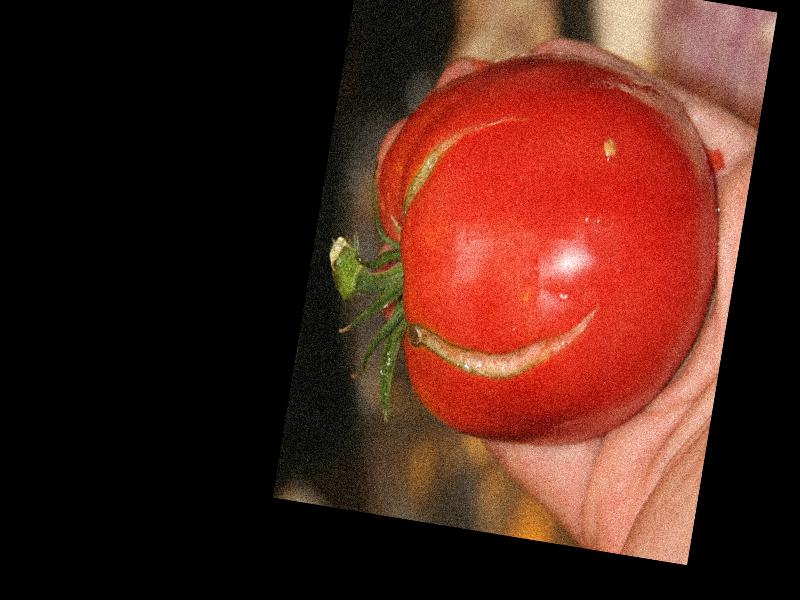Tomato: (340, 30, 746, 465)
